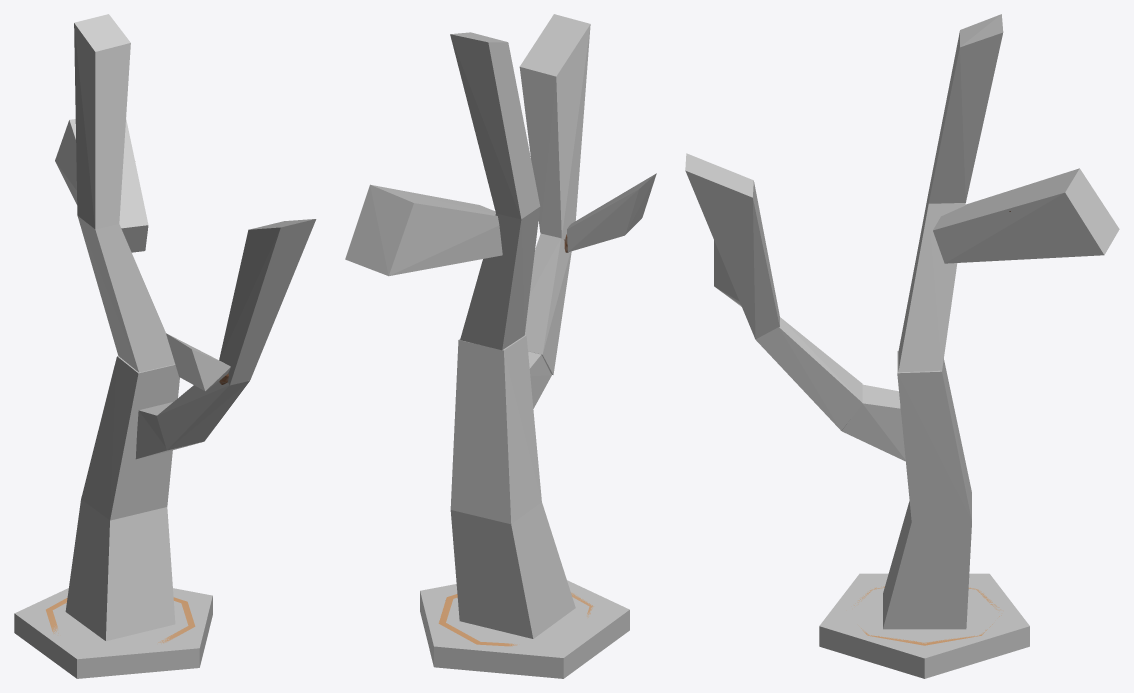
Rendered from SM_Tree_02.fbx.
3 renders of one model, left to right at view 1: azimuth 30°, elevation 25°; view 2: azimuth 150°, elevation 25°; view 3: azimuth 270°, elevation 25°, orthographic. The views are drawn at different scales.
Parts seen in each view (by area): view 1: SM_Tree_02_ConvexHulls, SM_Tree_02; view 2: SM_Tree_02_ConvexHulls, SM_Tree_02; view 3: SM_Tree_02_ConvexHulls.
Part boxes in pixels (x1,y1,x2,y2): SM_Tree_02_ConvexHulls: (14, 14, 316, 678); SM_Tree_02: (46, 373, 228, 643); SM_Tree_02_ConvexHulls: (345, 14, 656, 678); SM_Tree_02: (438, 234, 593, 646); SM_Tree_02_ConvexHulls: (685, 14, 1119, 678).
Size of the model in its own units: 146 by 316 by 492.
